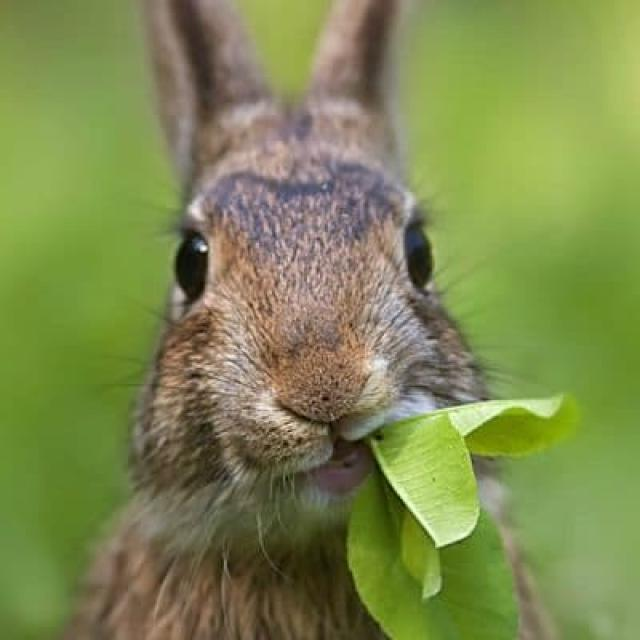Herbivorous: (56, 0, 491, 640)
